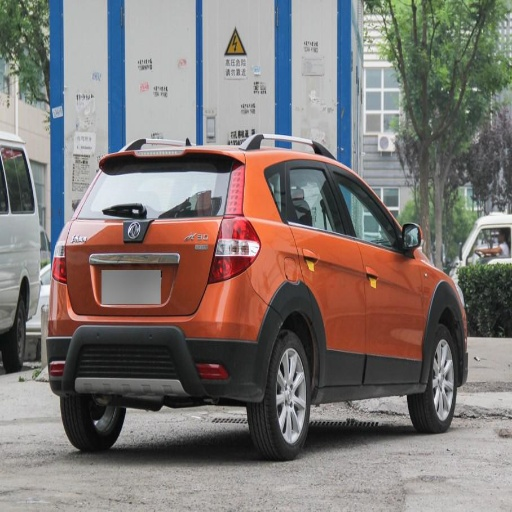back_bumper: (50, 271, 276, 401)
back_right_door: (284, 158, 366, 383)
trunk: (55, 219, 222, 321)
